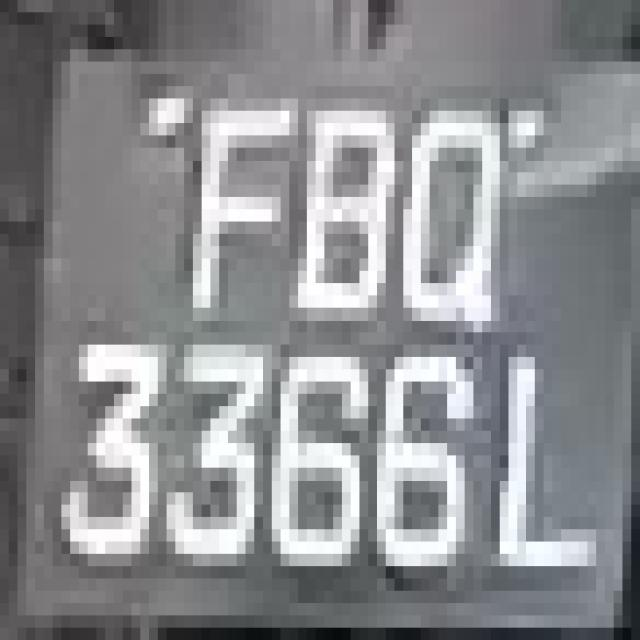3: (149, 283, 272, 591), (70, 307, 167, 578)
6: (263, 307, 386, 578), (359, 320, 474, 578)
B: (290, 49, 404, 345)
F: (184, 37, 281, 320)
L: (491, 320, 614, 603)
Q: (386, 73, 526, 344)
